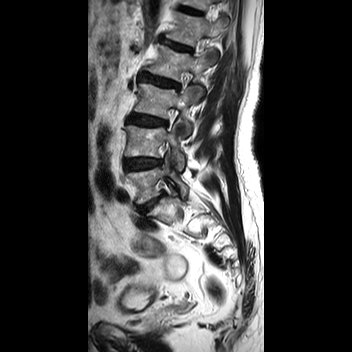LFS0: (156, 100, 183, 135), (170, 64, 196, 98)
